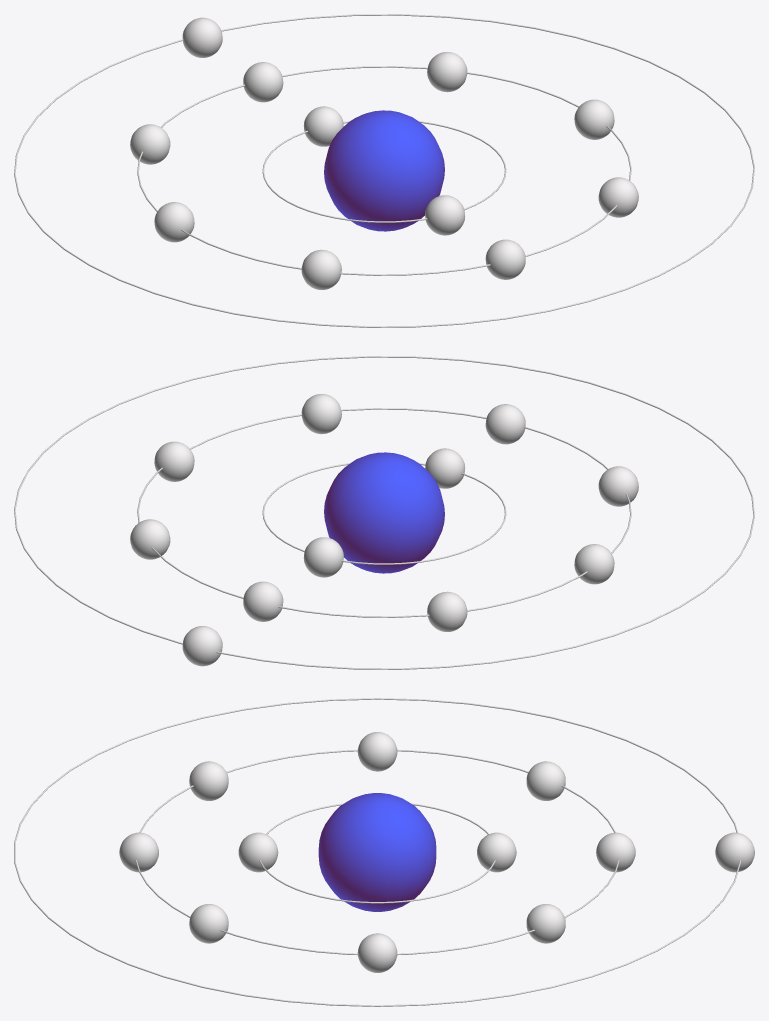
The model's file is Group 1 - Sodium Na.glb.
3 renders of one model, top to bottom at view 1: azimuth 30°, elevation 25°; view 2: azimuth 150°, elevation 25°; view 3: azimuth 270°, elevation 25°, orthographic.
Visible parts, largest first — view 1: Nucleus, ring3, ring2, Electron6, Electron9, Electron10, Electron7, Electron11, Electron1, Electron3, Electron8, Electron5 (+3 smaller); view 2: Nucleus, ring3, ring2, Electron4, Electron11, Electron7, Electron6, Electron10, Electron2, Electron5, Electron8, Electron3 (+3 smaller); view 3: Nucleus, ring3, ring2, Electron8, Electron7, Electron3, Electron5, Electron2, Electron4, Electron1, Electron6, Electron9 (+3 smaller).
Boxes of the visible parts, <box> form: Nucleus: <box>324,110,444,231</box>; ring3: <box>14,14,754,327</box>; ring2: <box>137,66,631,275</box>; Electron6: <box>182,17,222,57</box>; Electron9: <box>425,195,465,235</box>; Electron10: <box>243,62,283,102</box>; Electron7: <box>574,99,614,139</box>; Electron11: <box>485,239,525,279</box>; Electron1: <box>427,52,467,92</box>; Electron3: <box>301,249,341,289</box>; Electron8: <box>154,202,194,242</box>; Electron5: <box>130,124,170,164</box>; Nucleus: <box>324,452,444,573</box>; ring3: <box>14,356,754,669</box>; ring2: <box>137,408,631,617</box>; Electron4: <box>303,537,343,577</box>; Electron11: <box>485,404,525,444</box>; Electron7: <box>154,441,194,481</box>; Electron6: <box>182,626,222,666</box>; Electron10: <box>243,581,283,621</box>; Electron2: <box>301,394,341,434</box>; Electron5: <box>427,591,467,631</box>; Electron8: <box>574,544,614,584</box>; Electron3: <box>598,466,638,506</box>; Nucleus: <box>318,793,436,911</box>; ring3: <box>14,698,741,1006</box>; ring2: <box>135,749,619,955</box>; Electron8: <box>357,732,397,771</box>; Electron7: <box>357,933,397,972</box>; Electron3: <box>189,761,228,800</box>; Electron5: <box>526,761,565,800</box>; Electron2: <box>189,904,228,943</box>; Electron4: <box>477,832,516,872</box>; Electron1: <box>526,904,565,943</box>; Electron6: <box>715,832,754,872</box>; Electron9: <box>238,832,278,872</box>.
Bounding box in the file's own units: 0.1834 × 0.03 × 0.1865.
